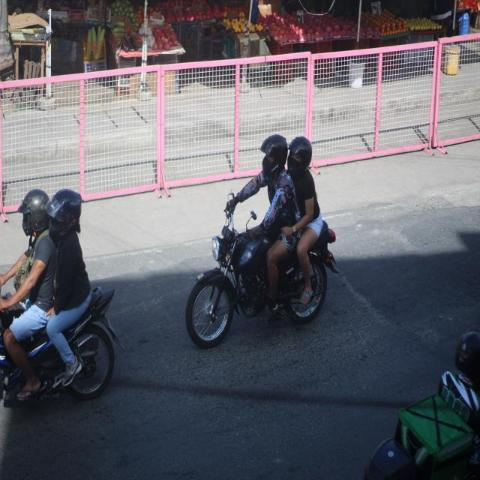motorcycle: (184, 132, 340, 351), (0, 183, 119, 414)
